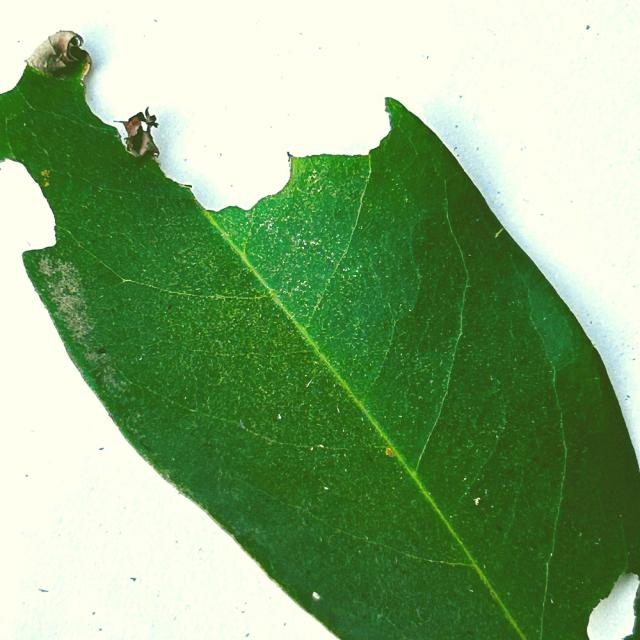Deficiency Leaf: (89, 44, 406, 212), (0, 161, 57, 257)
Lychee: (0, 31, 639, 639)
